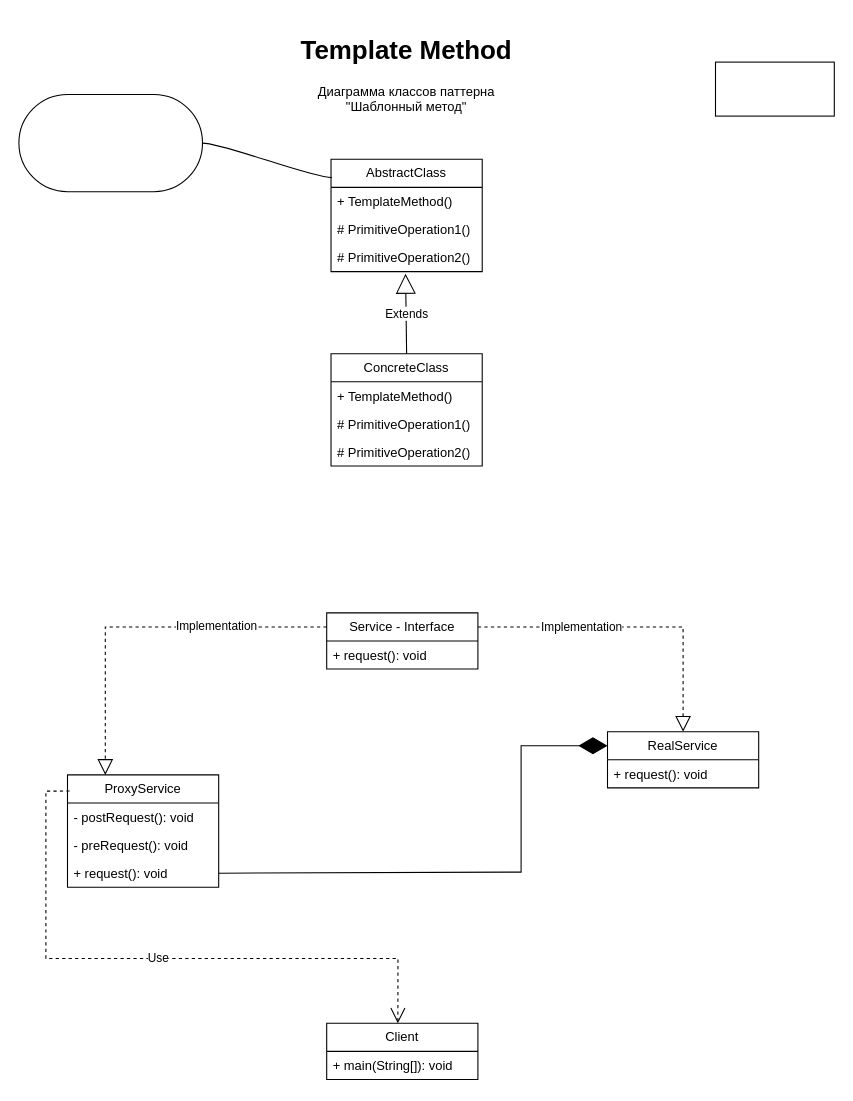
This 853x1101 diagram has some shape labels left out. The shapes that lost their labels are listed below. From the top down, each one's centre as x and y in pixels, then its label:
At [774,88]: "# - protected + - public".
At [110,142]: "void TemplateMethod() { PrimitiveOperation1(); PrimitiveOPeration2(); ... }".
